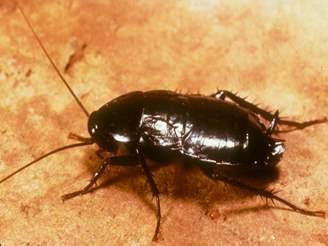cockroach: (65, 86, 290, 202)
